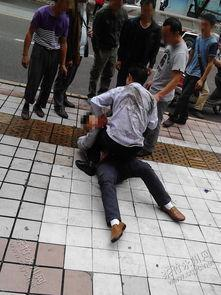Fall-Detected: (70, 77, 193, 247)
